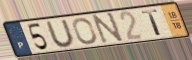2: (119, 11, 145, 43)
5: (25, 22, 50, 51)
N: (91, 11, 126, 45)
O: (72, 17, 99, 46)
T: (140, 8, 164, 37)
U: (44, 18, 77, 48)
